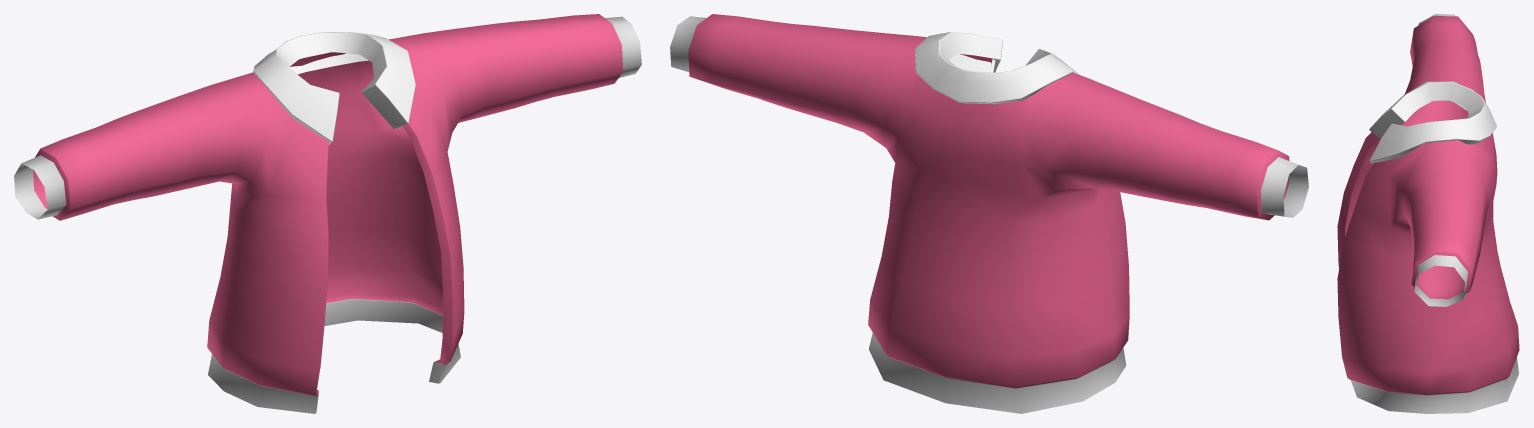
The model's file is Outerwear_Pink_006.glb.
3 renders of one model, left to right at view 1: azimuth 30°, elevation 25°; view 2: azimuth 150°, elevation 25°; view 3: azimuth 270°, elevation 25°, orthographic. The views are drawn at different scales.
Visible parts, largest first — view 1: Outerwear_Pink_006; view 2: Outerwear_Pink_006; view 3: Outerwear_Pink_006.
Boxes of the visible parts, x1,y1,x2,y2 form: Outerwear_Pink_006: [14, 14, 641, 413]; Outerwear_Pink_006: [670, 14, 1308, 413]; Outerwear_Pink_006: [1337, 14, 1519, 413].
Bounding box in the file's own units: 1.29 × 0.6459 × 0.3903.
1 material, 1 textured.
